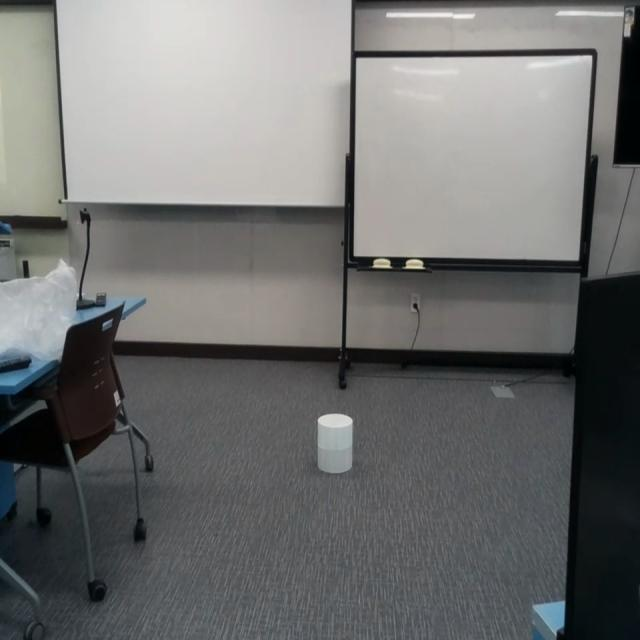cylinder: (317, 413, 353, 474)
